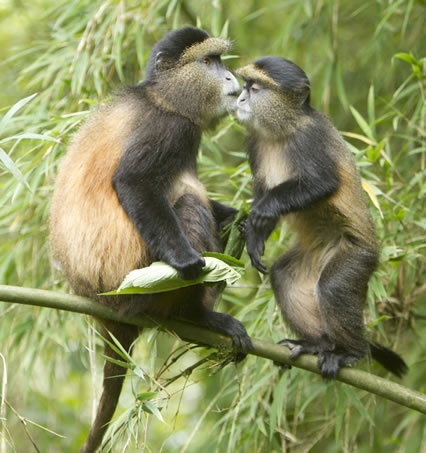monkey: (40, 22, 252, 453), (233, 49, 417, 381)
